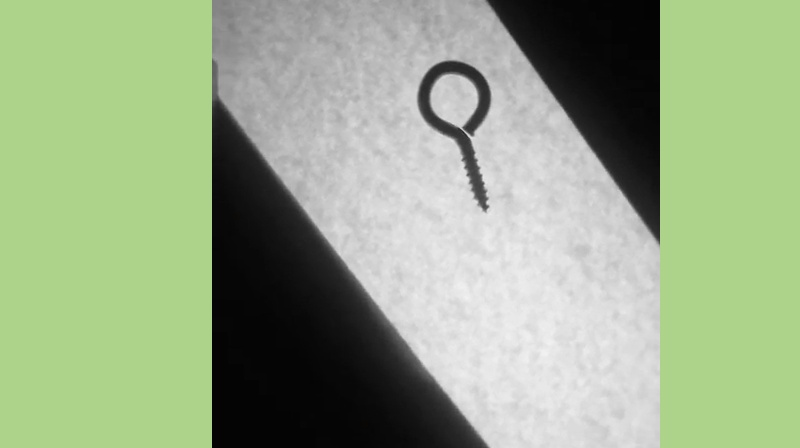O001: (412, 56, 492, 214)
